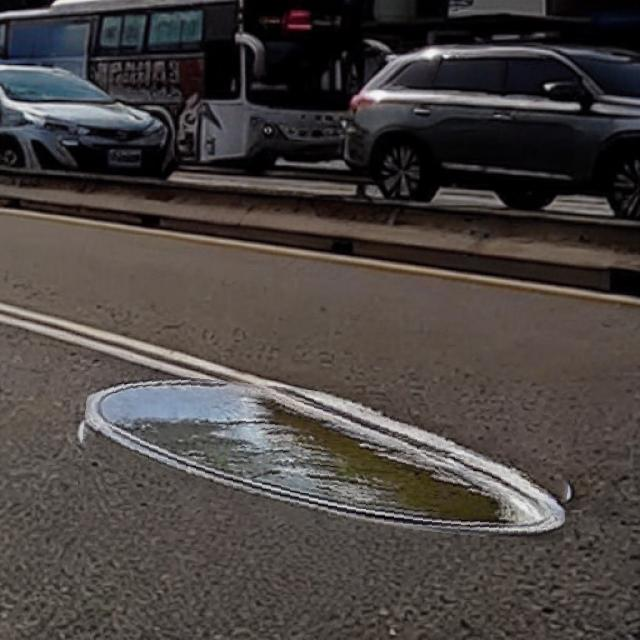puddle: (80, 381, 574, 533)
